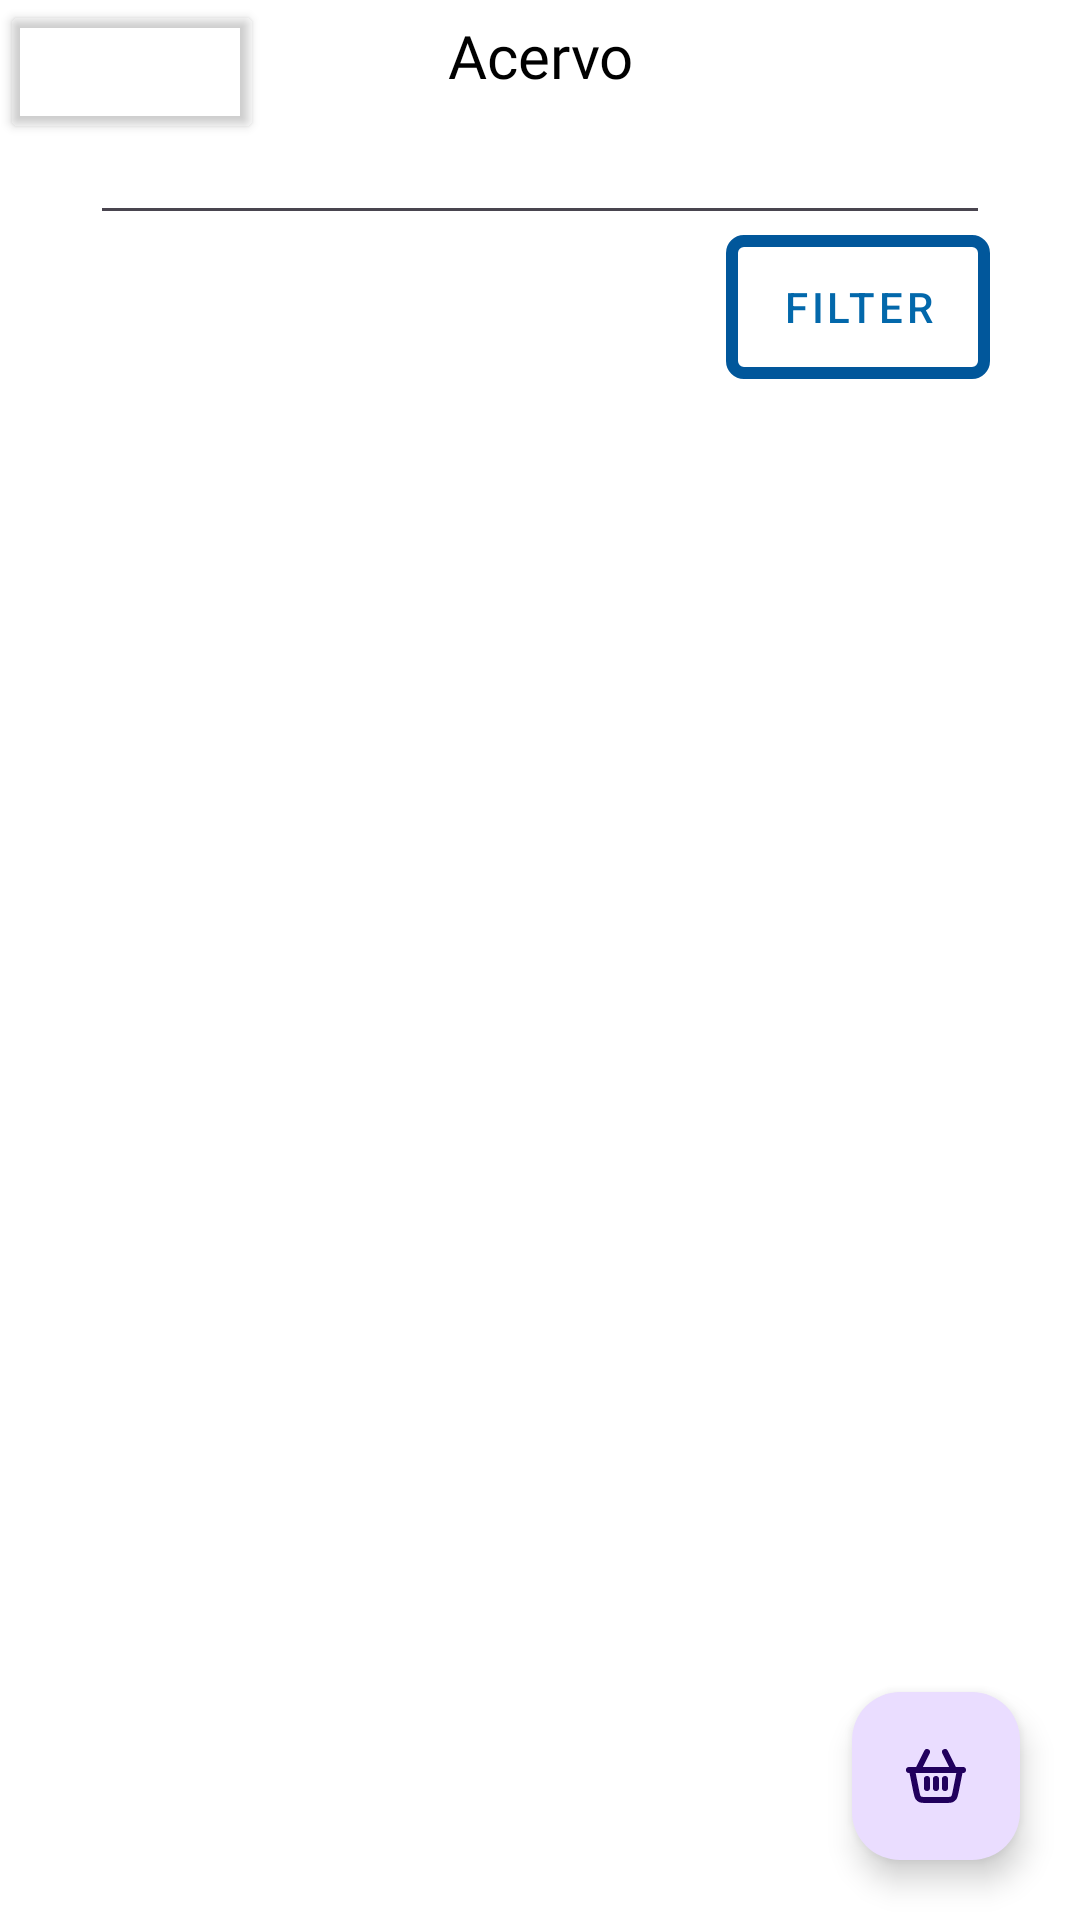

Icon click points for this 1080x1920 phone screenshot, format point (x, y):
basket shopping: point (936, 1776)
